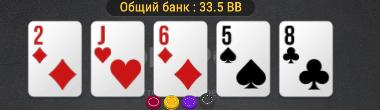2d: (28, 23, 80, 95)
5s: (217, 22, 268, 95)
6d: (154, 22, 207, 93)
8c: (281, 23, 332, 96)
Jh: (92, 22, 144, 96)
